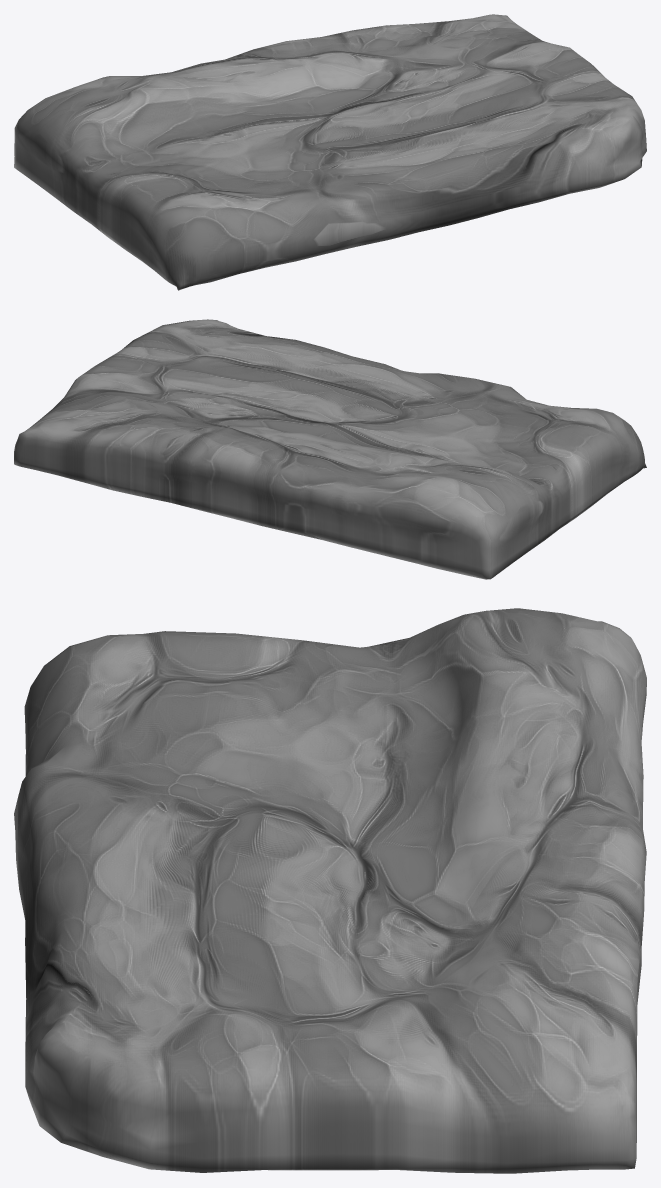
File: Platform.FBX
3 views of the same model, one above another, from view 1: azimuth 30°, elevation 25°; view 2: azimuth 150°, elevation 25°; view 3: azimuth 270°, elevation 25° (orthographic). The views are drawn at different scales.
Visible parts, largest first — view 1: Plataforma_Test; view 2: Plataforma_Test; view 3: Plataforma_Test.
Part boxes in pixels (x1,y1,x2,y2): Plataforma_Test: (14, 14, 646, 290); Plataforma_Test: (14, 319, 646, 579); Plataforma_Test: (14, 608, 646, 1173).
Size of the model in its own units: 4.64 by 0.7343 by 2.77.
Materials: 1 (1 with a texture image).
